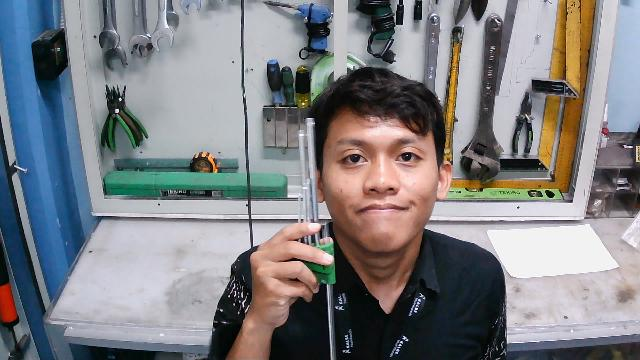kunci_l_bintang: (285, 115, 340, 292)
